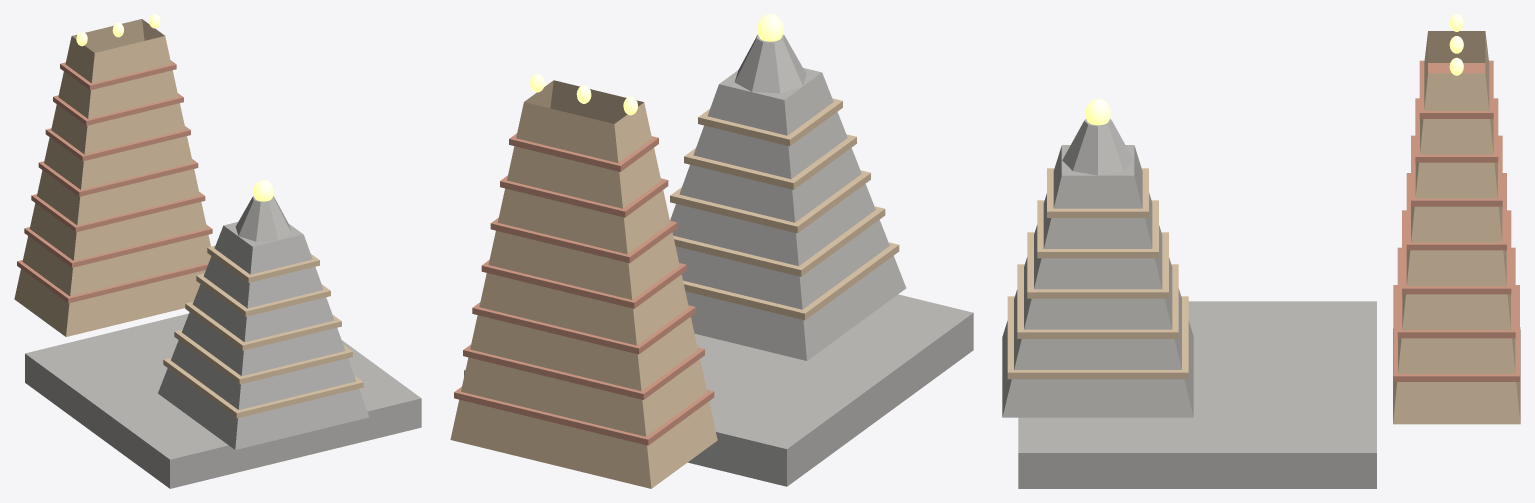
Rendered from dravidian.glb.
3 renders of one model, left to right at view 1: azimuth 30°, elevation 25°; view 2: azimuth 150°, elevation 25°; view 3: azimuth 270°, elevation 25°, orthographic. The views are drawn at different scales.
Parts seen in each view (by area): view 1: dravidian; view 2: dravidian; view 3: dravidian.
Part boxes in pixels (x1,y1,x2,y2): dravidian: (14,14,421,488); dravidian: (450,14,973,488); dravidian: (1002,14,1520,488).
Bounding box in the file's own units: 7.94 × 10 × 11.47.
